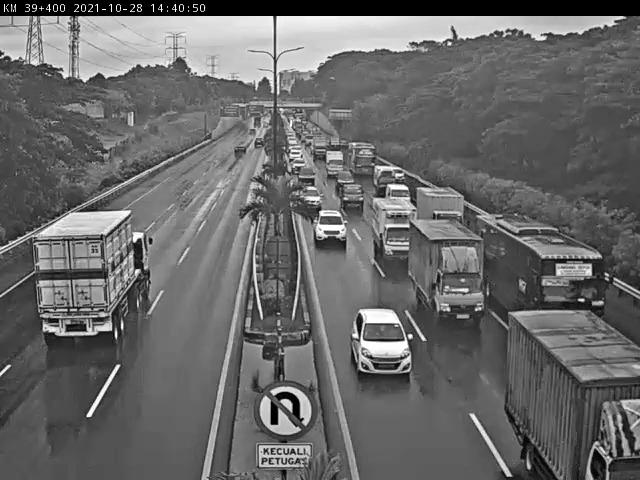big bus: (480, 213, 609, 324)
big truck: (37, 208, 153, 344)
car: (349, 307, 412, 374), (311, 208, 350, 244)
mid truck: (406, 219, 486, 323), (372, 197, 418, 260), (416, 186, 465, 224)
